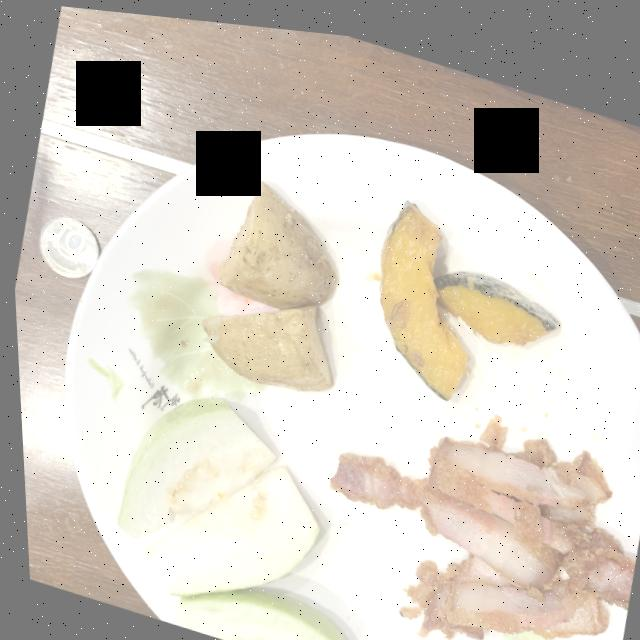coin: (36, 214, 96, 276)
fried potato: (198, 175, 332, 384)
guava -sliced-: (112, 392, 339, 640)
pumpkin: (377, 191, 557, 390)
red grilled pork: (325, 404, 630, 629)
